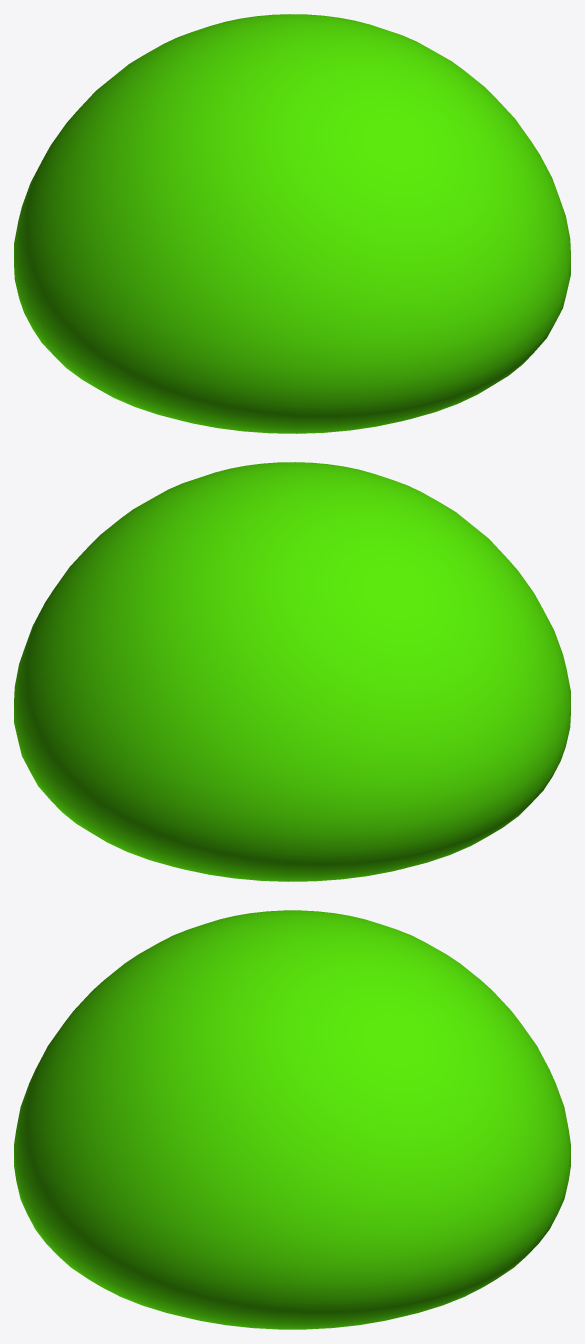
The model's file is SlimeModel.glb.
The picture shows the model from 3 angles, top to bottom: view 1: azimuth 30°, elevation 25°; view 2: azimuth 150°, elevation 25°; view 3: azimuth 270°, elevation 25°; orthographic projection.
Visible parts, largest first — view 1: Sphere; view 2: Sphere; view 3: Sphere.
Boxes of the visible parts, x1,y1,x2,y2 form: Sphere: (14, 14, 570, 433); Sphere: (14, 462, 570, 881); Sphere: (14, 910, 570, 1329).
Bounding box in the file's own units: 1.99 × 1.26 × 2.
